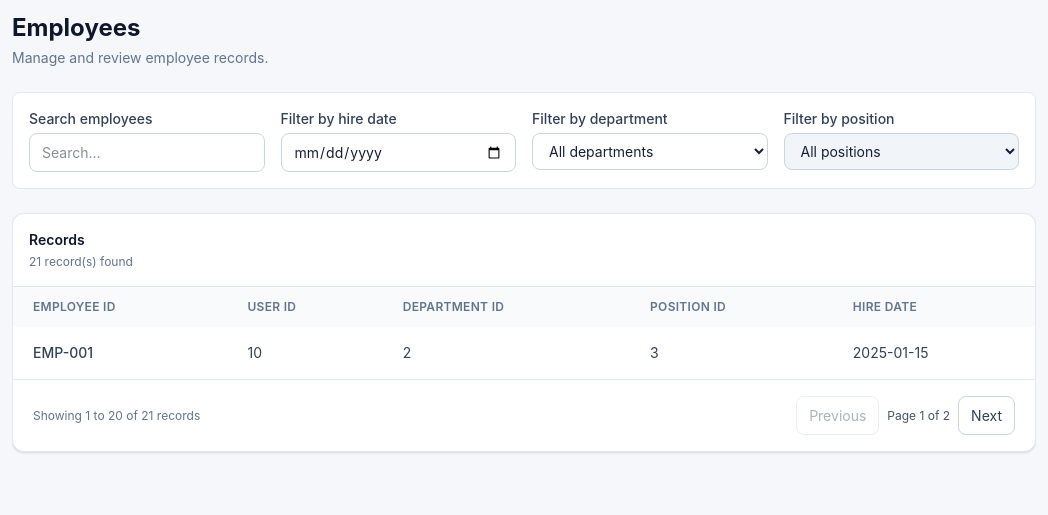
EmployeesPage › preserves active filters when moving to the next page
Expected: the link "EMP-001" is shown, [33,344,93,361]
Select "Engineering" in the dropdown labelled "Filter by department" at (650, 152), box [532,133,768,170]
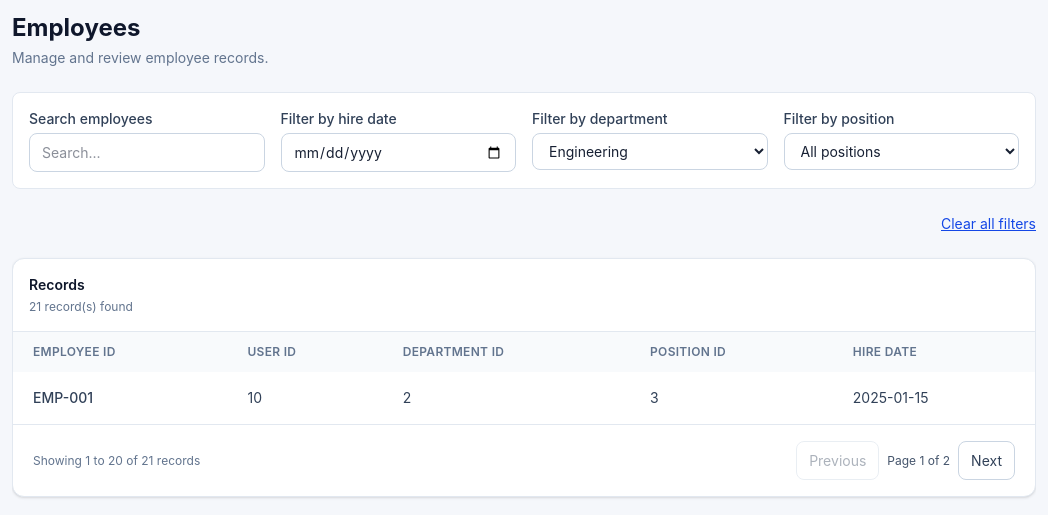
Expected: the text "Page 1 of 2" is shown, [887,452,950,468]
Click the button "Next" at (987, 460), box [958,441,1015,480]
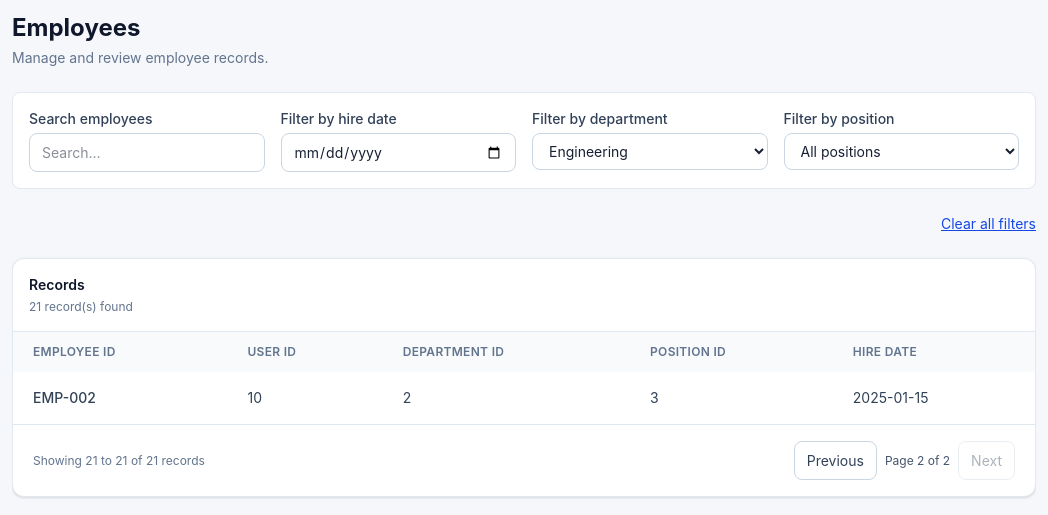
Expected: the link "EMP-002" is shown, [33,389,96,406]
